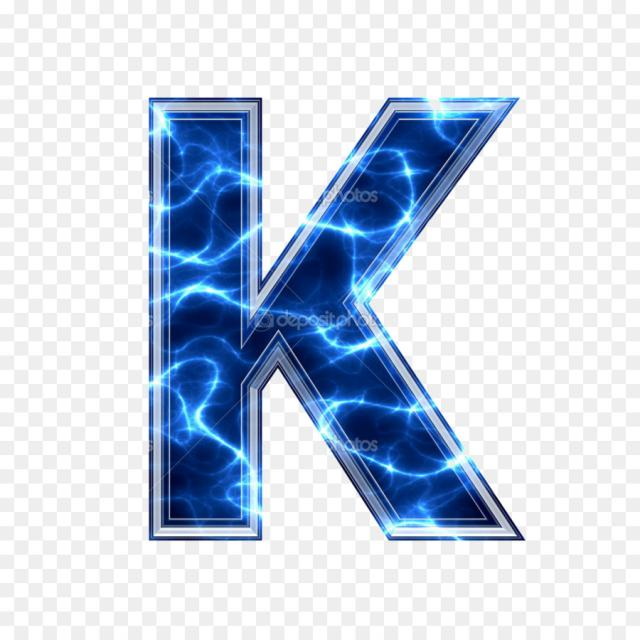K: (100, 44, 548, 568)
